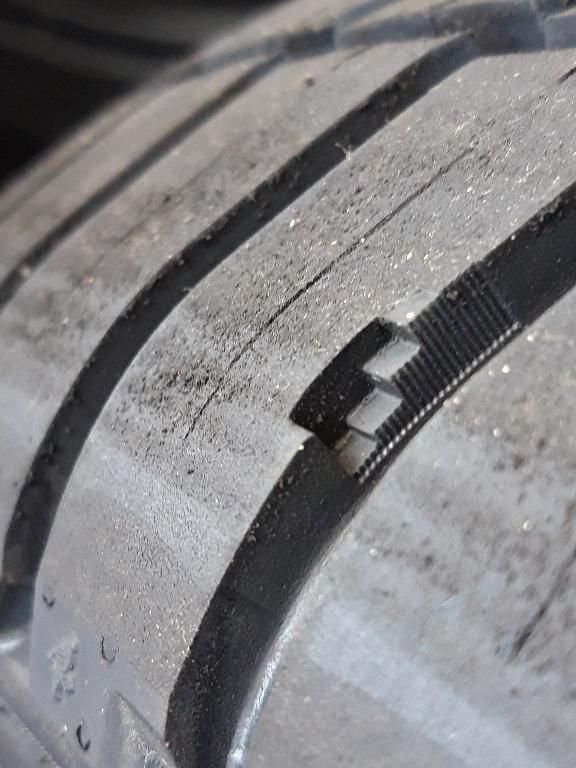temoin:75: (280, 283, 486, 495)
